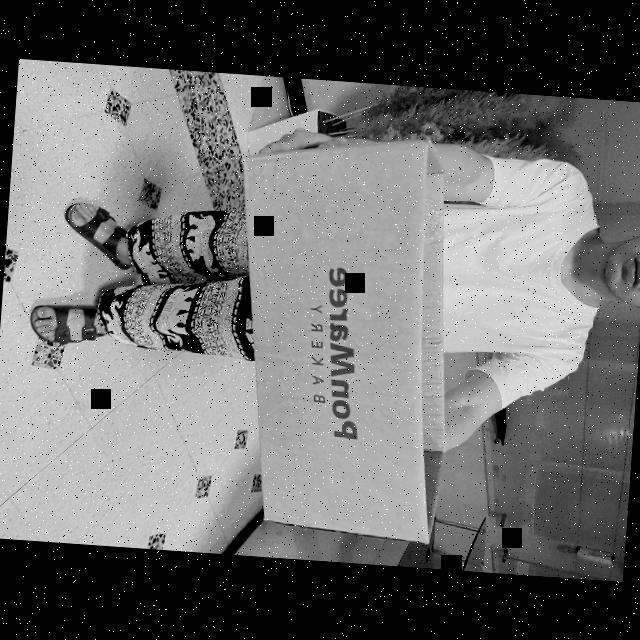cardboard_box: (207, 119, 483, 555)
